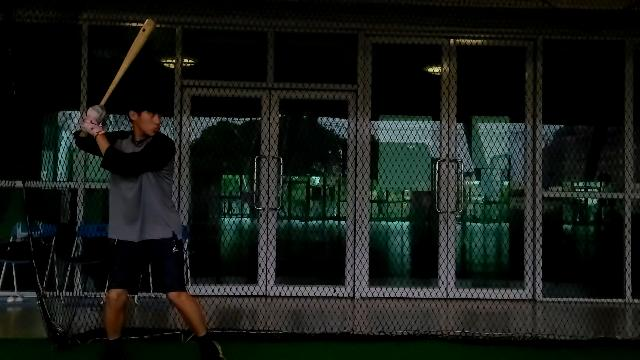baseball bat: (101, 18, 157, 106)
